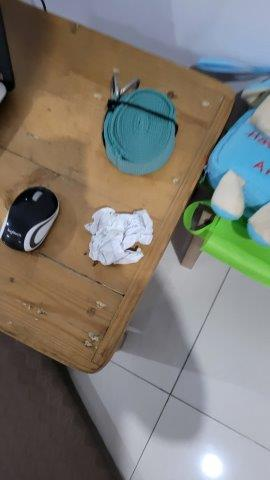kertas: (83, 202, 153, 270)
